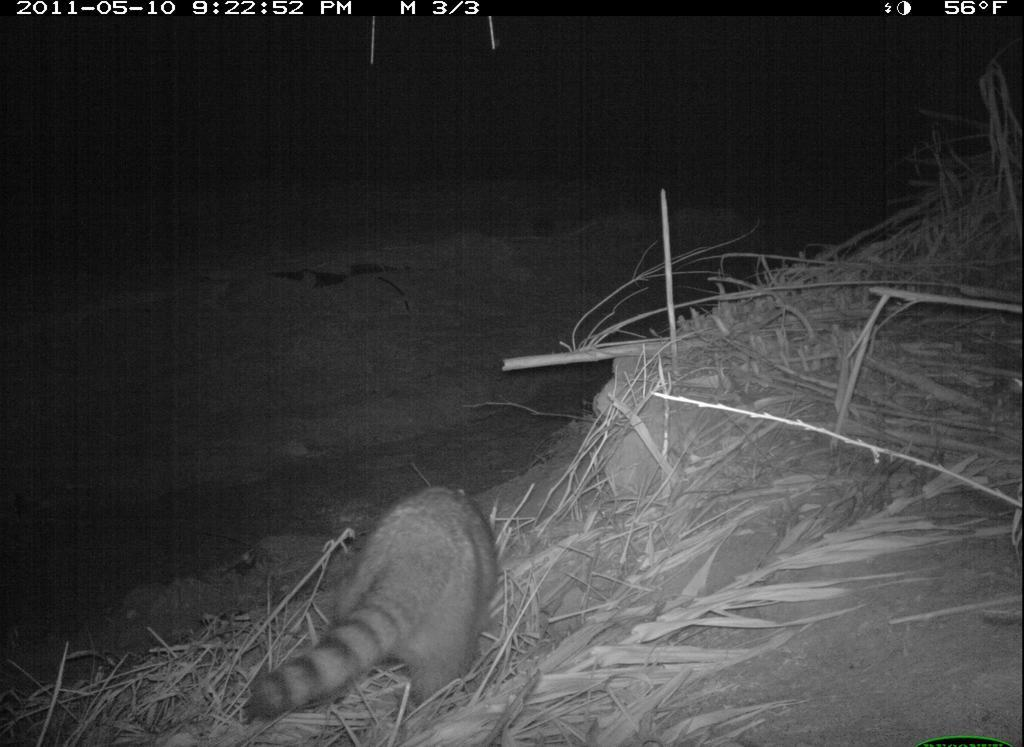raccoon: (244, 482, 504, 729)
